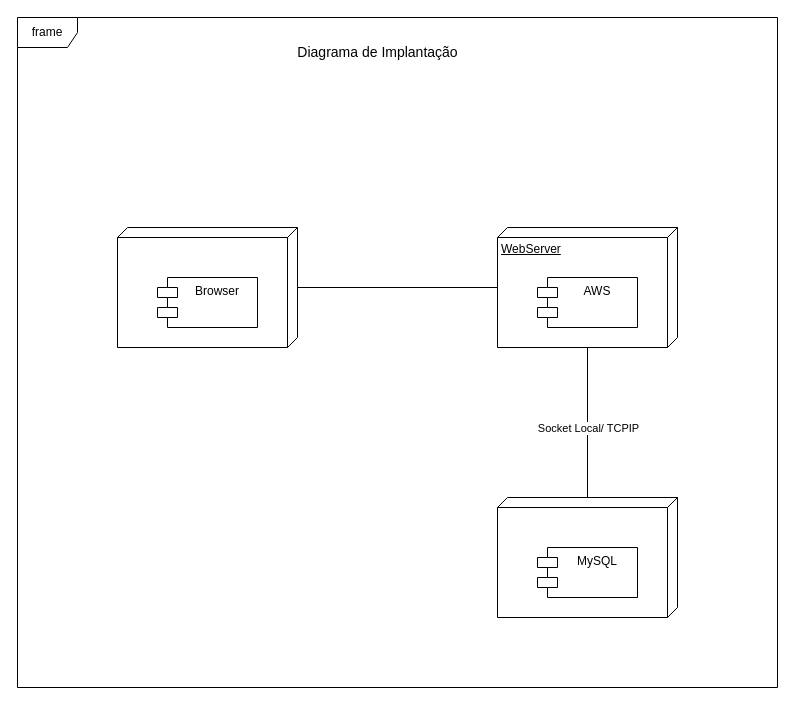
Some shapes in this 795 by 705 pixel diagram are drawn without their labels. Here are the shapes that lost their labels. From the top down, the box of each, then its label:
(116, 226, 298, 348): Pc
(496, 496, 678, 618): Servidor de Banco de Dados
